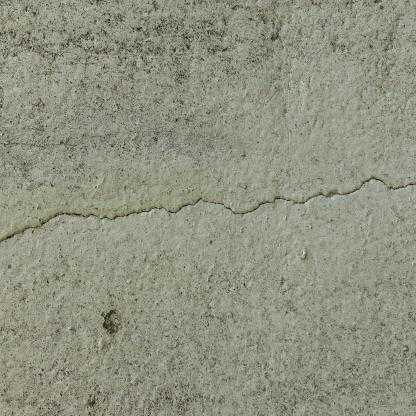crack: (0, 177, 416, 243)
